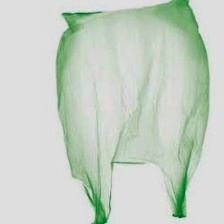plastic_bag: (48, 0, 211, 224)
